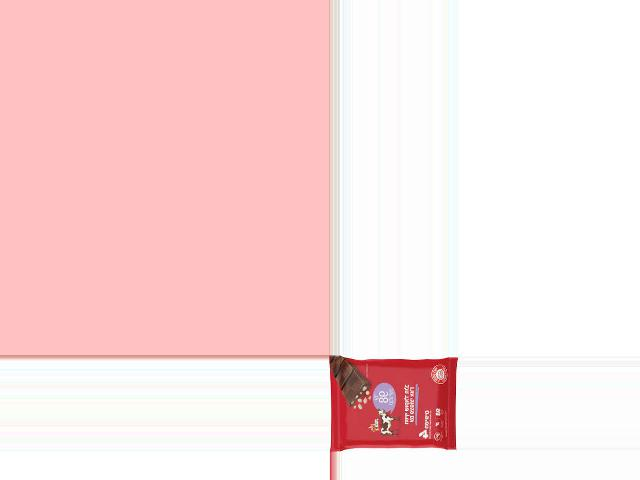chocolate: (330, 359, 458, 451)
